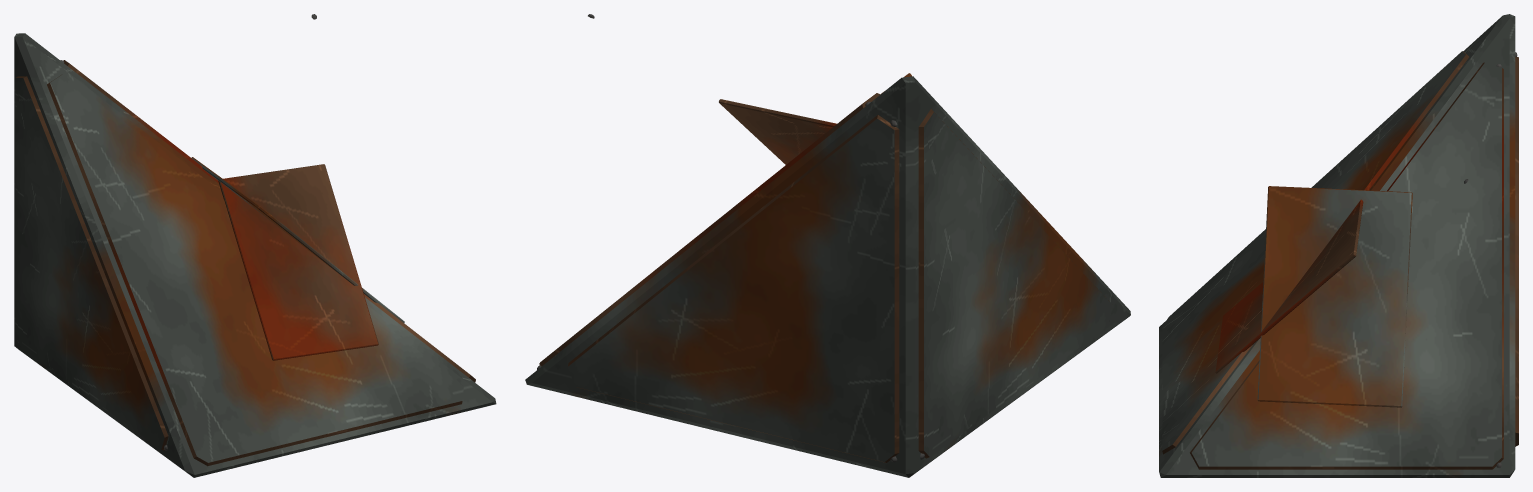
The model's file is R4B_CornerWedge.glb.
3 renders of one model, left to right at view 1: azimuth 30°, elevation 25°; view 2: azimuth 150°, elevation 25°; view 3: azimuth 270°, elevation 25°, orthographic. The views are drawn at different scales.
Visible parts, largest first — view 1: R4B_CornerWedge; view 2: R4B_CornerWedge; view 3: R4B_CornerWedge.
Boxes of the visible parts, bbox=[...] form: R4B_CornerWedge: bbox=[14, 14, 496, 477]; R4B_CornerWedge: bbox=[525, 14, 1130, 477]; R4B_CornerWedge: bbox=[1159, 14, 1518, 477].
Size of the model in its own units: 0.5025 by 0.4907 by 0.5025.
3 materials, 3 textured.
